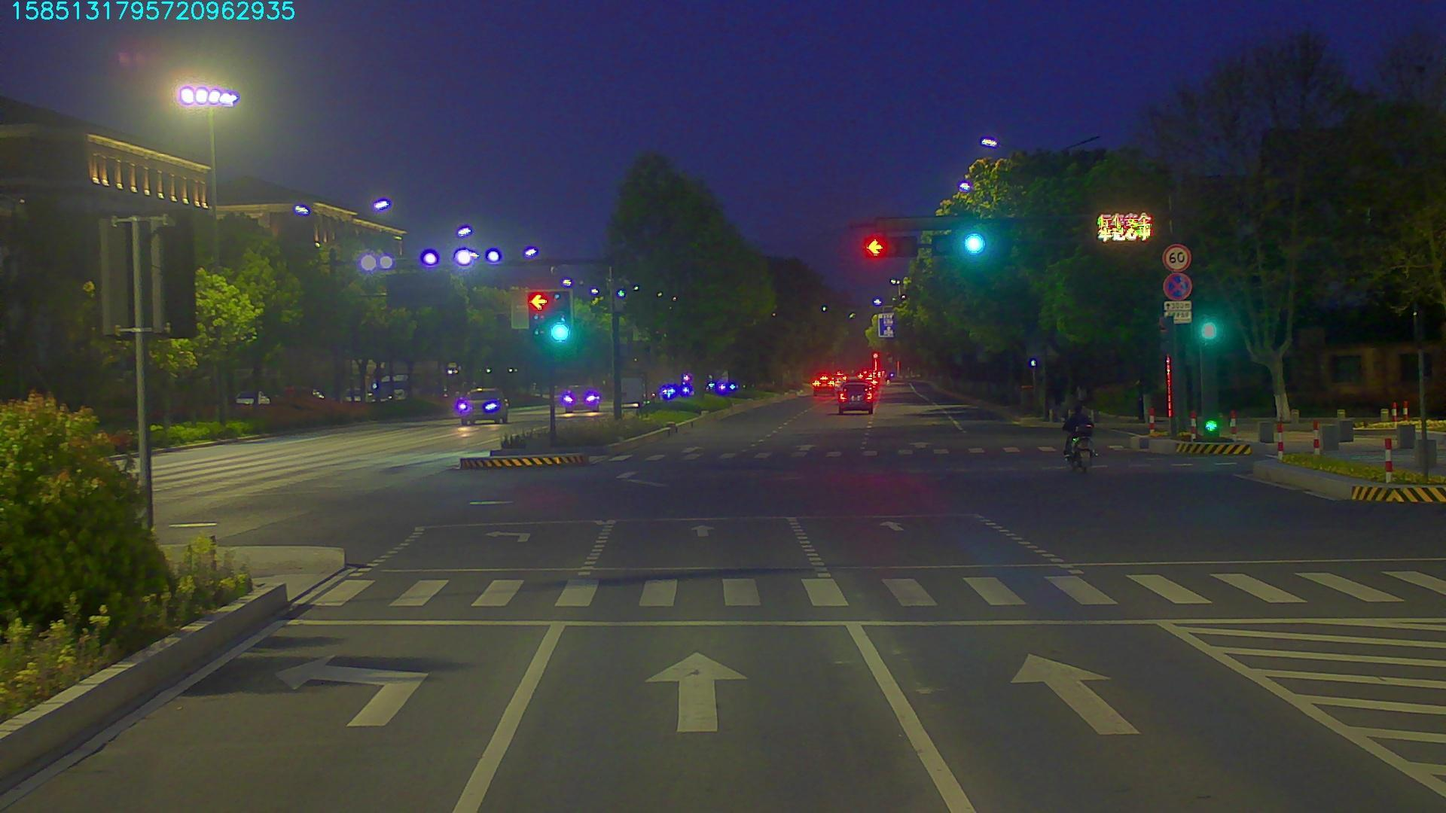green: (937, 230, 988, 251)
red: (868, 235, 912, 252)
